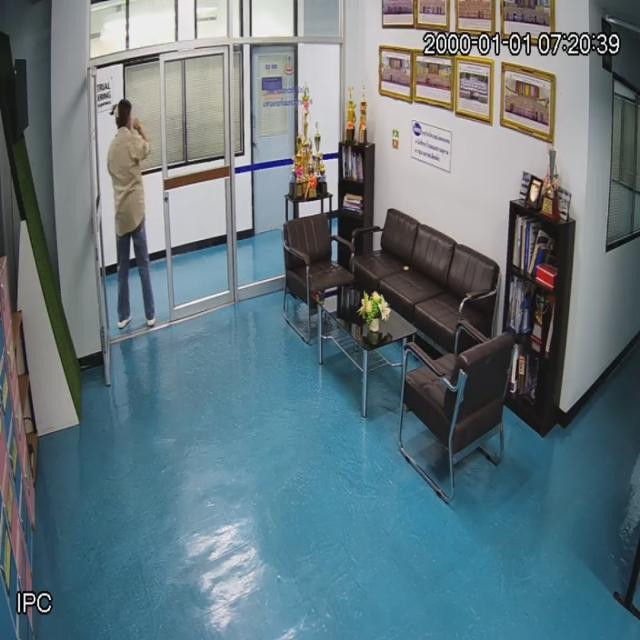normal: (108, 100, 160, 336)
